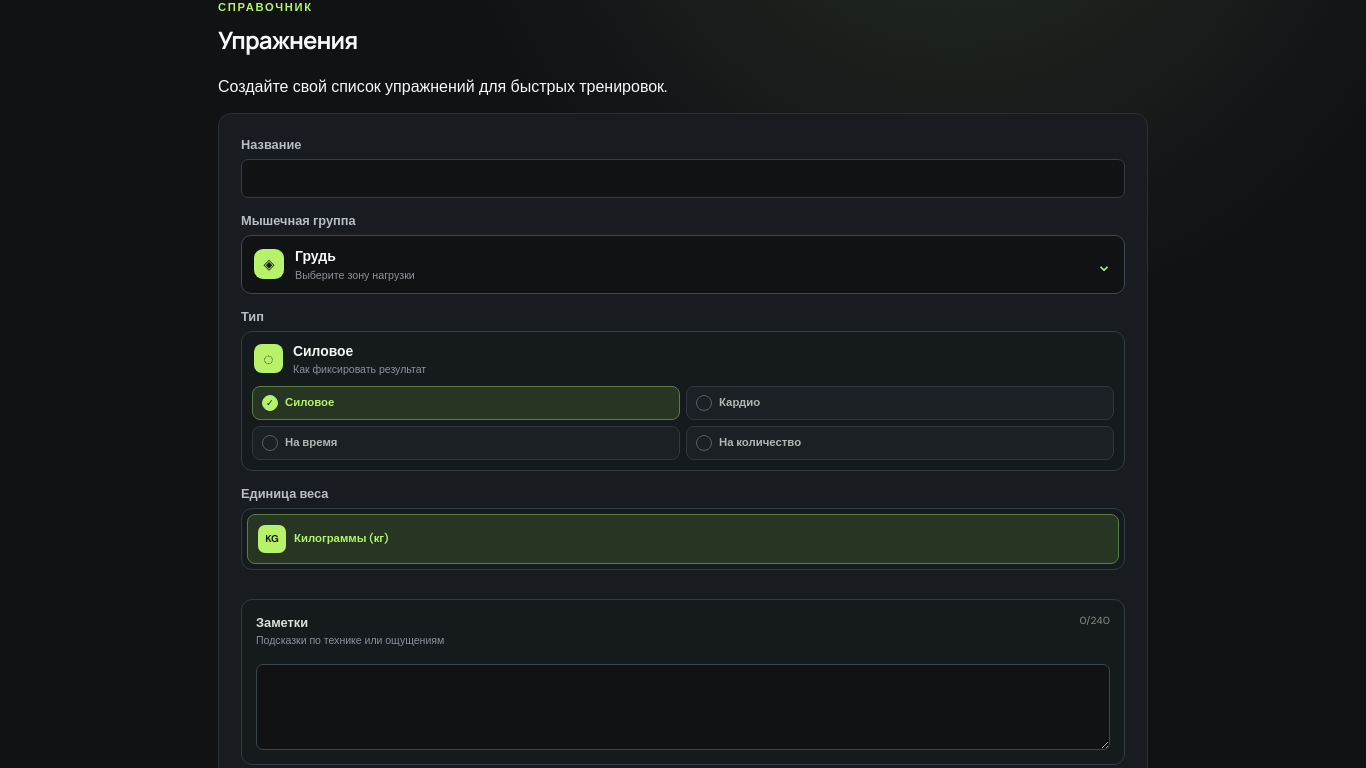
Test: ExercisePage › opens a visual muscle group catalog and selects a subgroup
The width and height of the screenshot is (1366, 768).
Click the button with aria-label "Выбрать мышечную группу" at (315, 256), box [241,235,1125,294]
(page scrolled)
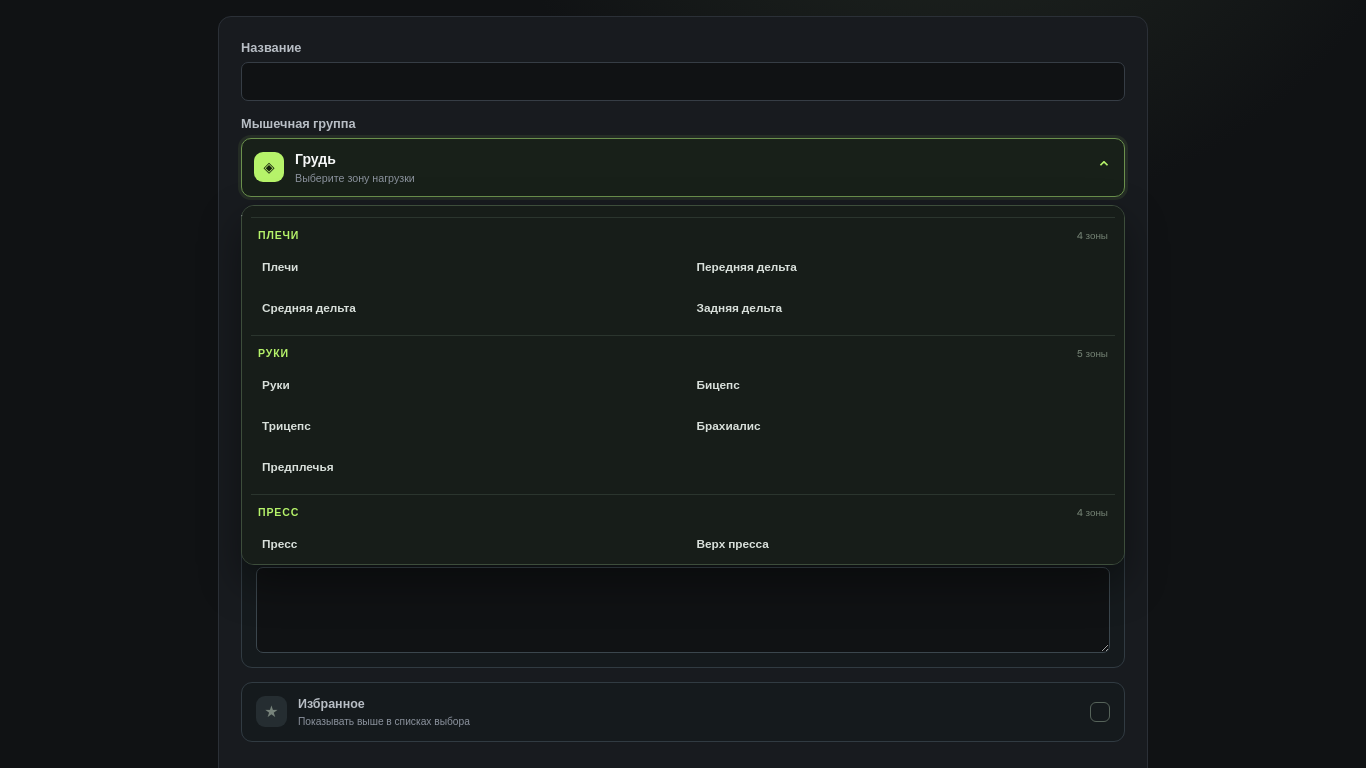
Expected: the list with class "muscle-picker-menu" is shown, [241,205,1125,565]
Expected: the element named "Руки" is shown, [251,335,1115,494]
Click the option "Бицепс" at (718, 385), box [686,367,1115,403]
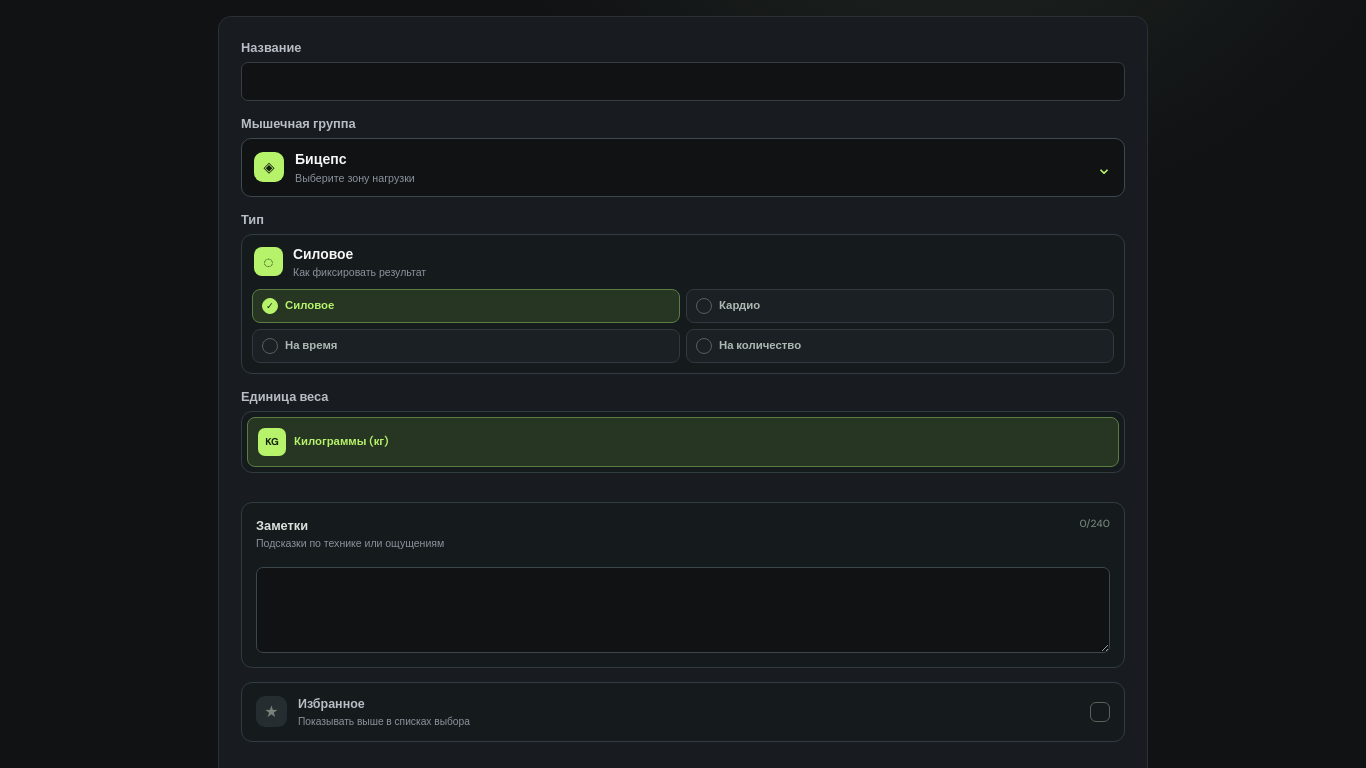
Expected: the label labelled "Мышечная группа" holds "arms_biceps", [241,115,1125,197]
Expected: the button with aria-label "Выбрать мышечную группу" shows "Бицепс", [241,138,1125,197]
